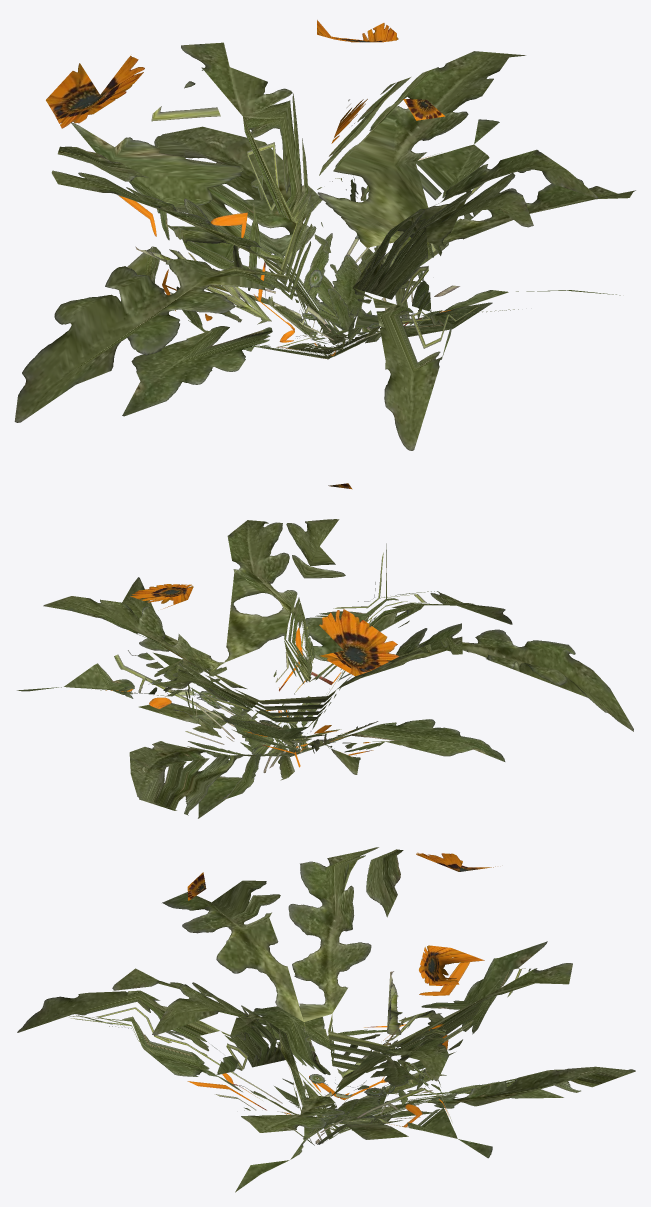
The model's file is gazania.glb.
3 views of the same model, one above another, from view 1: azimuth 30°, elevation 25°; view 2: azimuth 150°, elevation 25°; view 3: azimuth 270°, elevation 25° (orthographic). The views are drawn at different scales.
Visible parts, largest first — view 1: lod1; view 2: lod1; view 3: lod1.
Part boxes in pixels (bbox=[...]): lod1: bbox=[14, 20, 635, 450]; lod1: bbox=[17, 483, 633, 818]; lod1: bbox=[17, 847, 635, 1192].
Size of the model in its own units: 0.4967 by 0.222 by 0.4923.
Materials: 1 (1 with a texture image).
